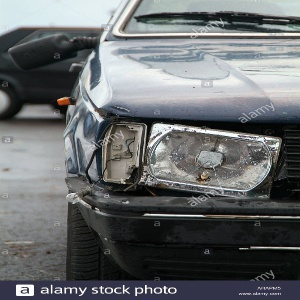head_lights: (103, 122, 278, 189)
